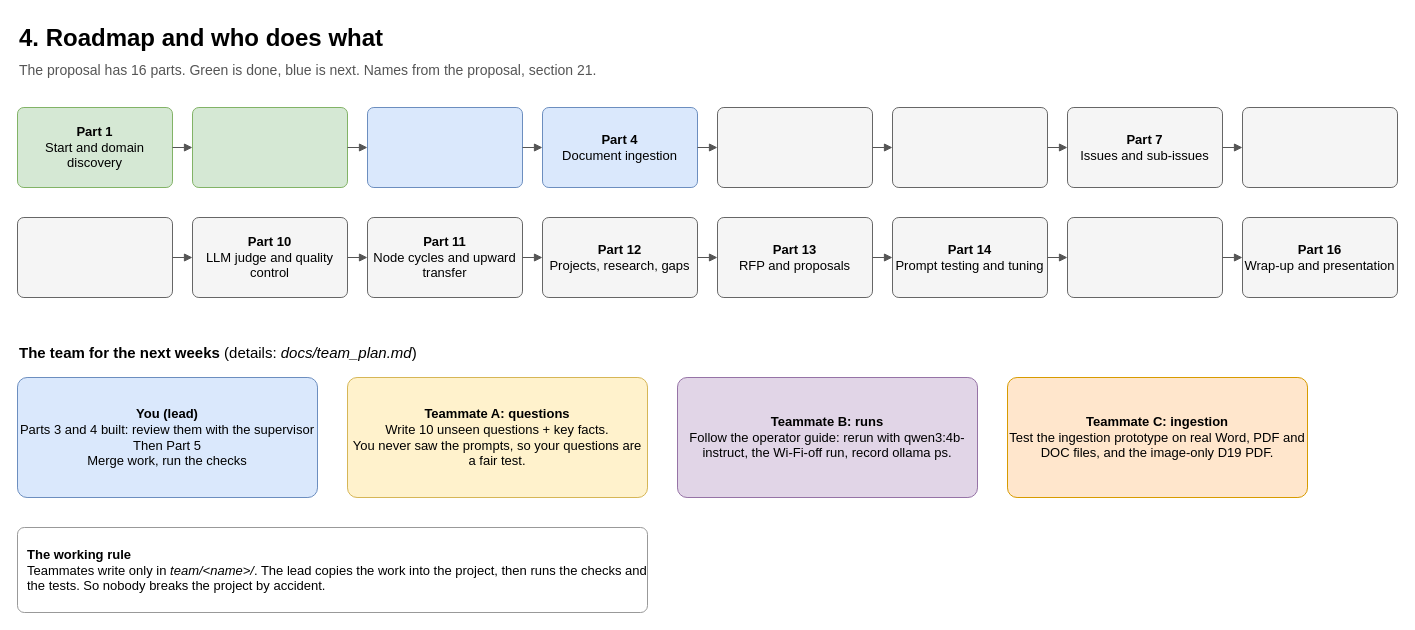
Image size: 1415x630. Some labels were removed from this diagram. Here are the shapes that lost their labels. From the top down, the centre of each, then its label:
At point (270, 147): "Part 2 Offline models and baseline".
At point (444, 147): "Part 3 DDD architecture and domain model".
At point (794, 147): "Part 5 Versioning, chunking, duplicates".
At point (970, 147): "Part 6 Nodes, layers, hierarchy".
At point (1320, 147): "Part 8 RAG retrieval and Q&A".
At point (94, 257): "Part 9 Executors and IKE relations".
At point (1144, 257): "Part 15 Unit tests and hardening".
